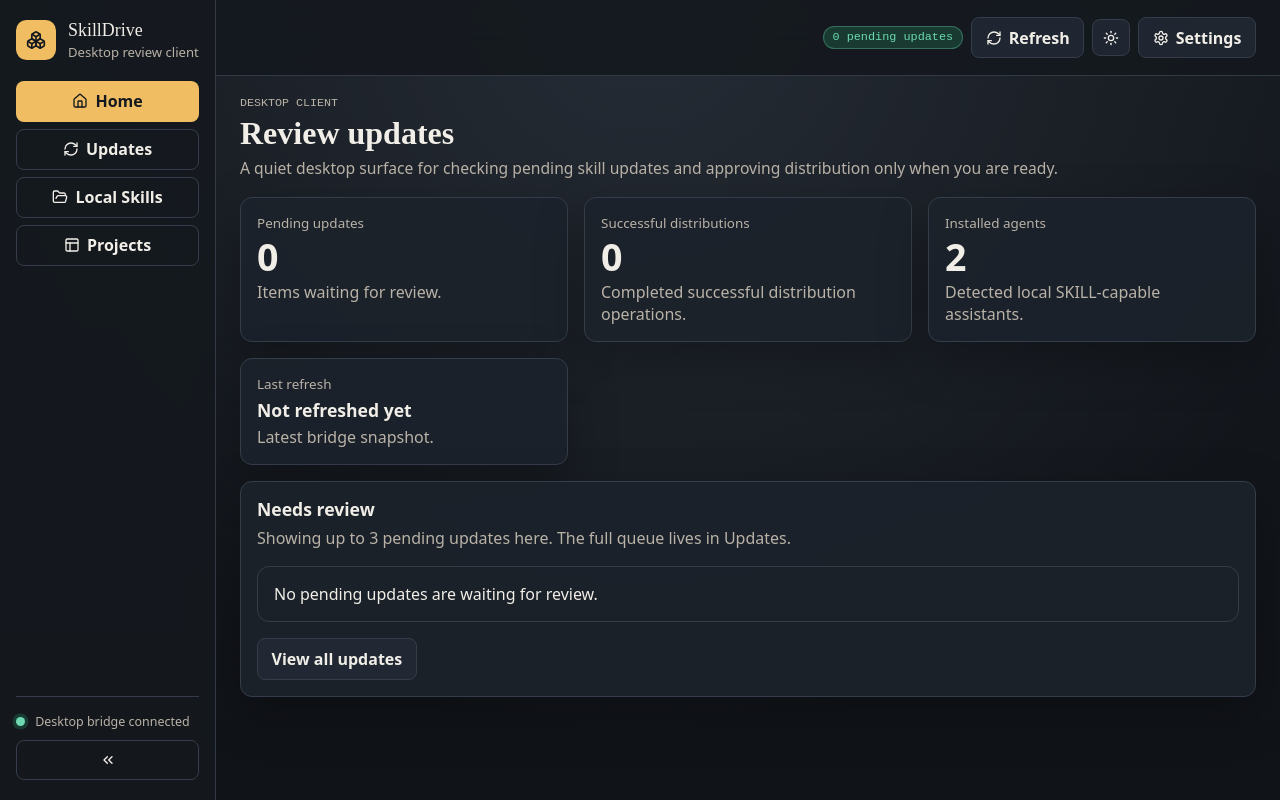
Test: App › persists a language switch through the locale bridge
The width and height of the screenshot is (1280, 800).
Click the button "Settings" at point(1197, 38), box [1138,17,1256,58]
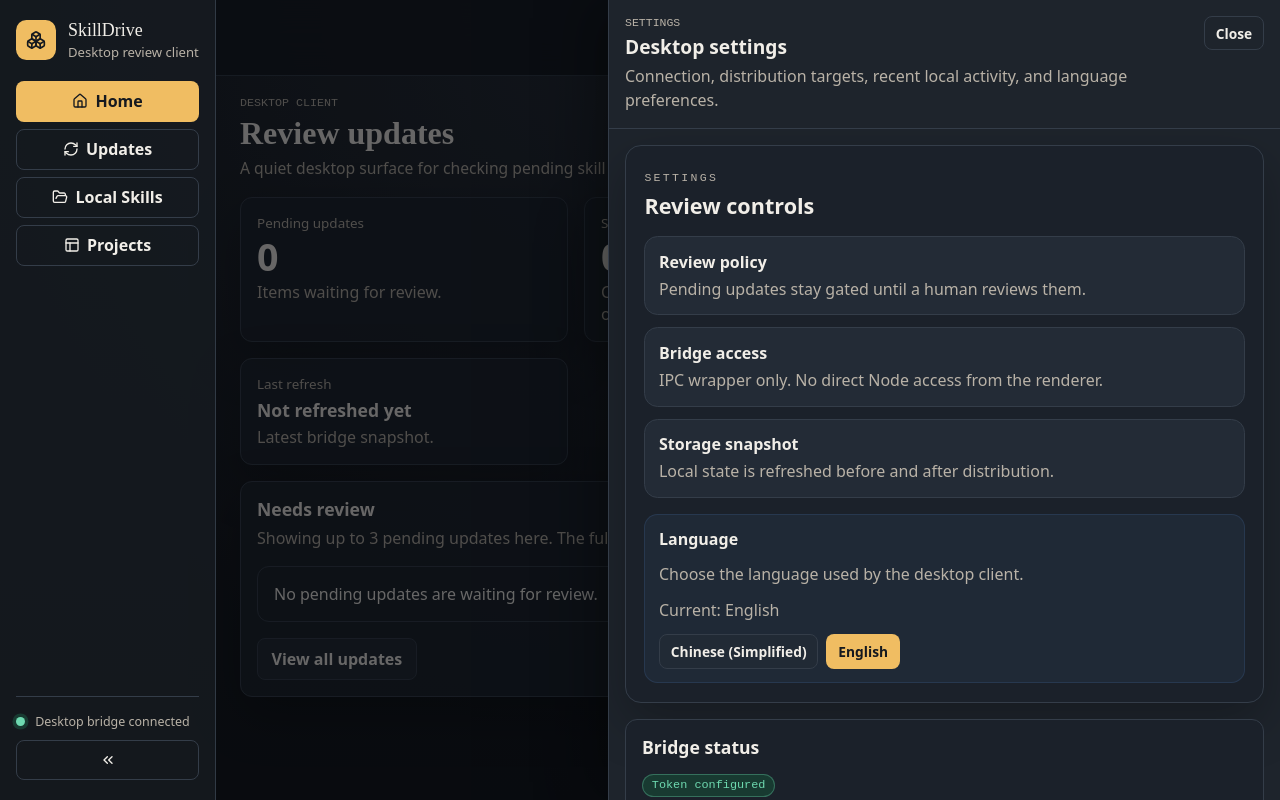
Check: the heading "Desktop settings" is shown, box [625,33,787,60]
Click the button with aria-label "Switch to Chinese" at point(739, 652), box [659,634,818,669]
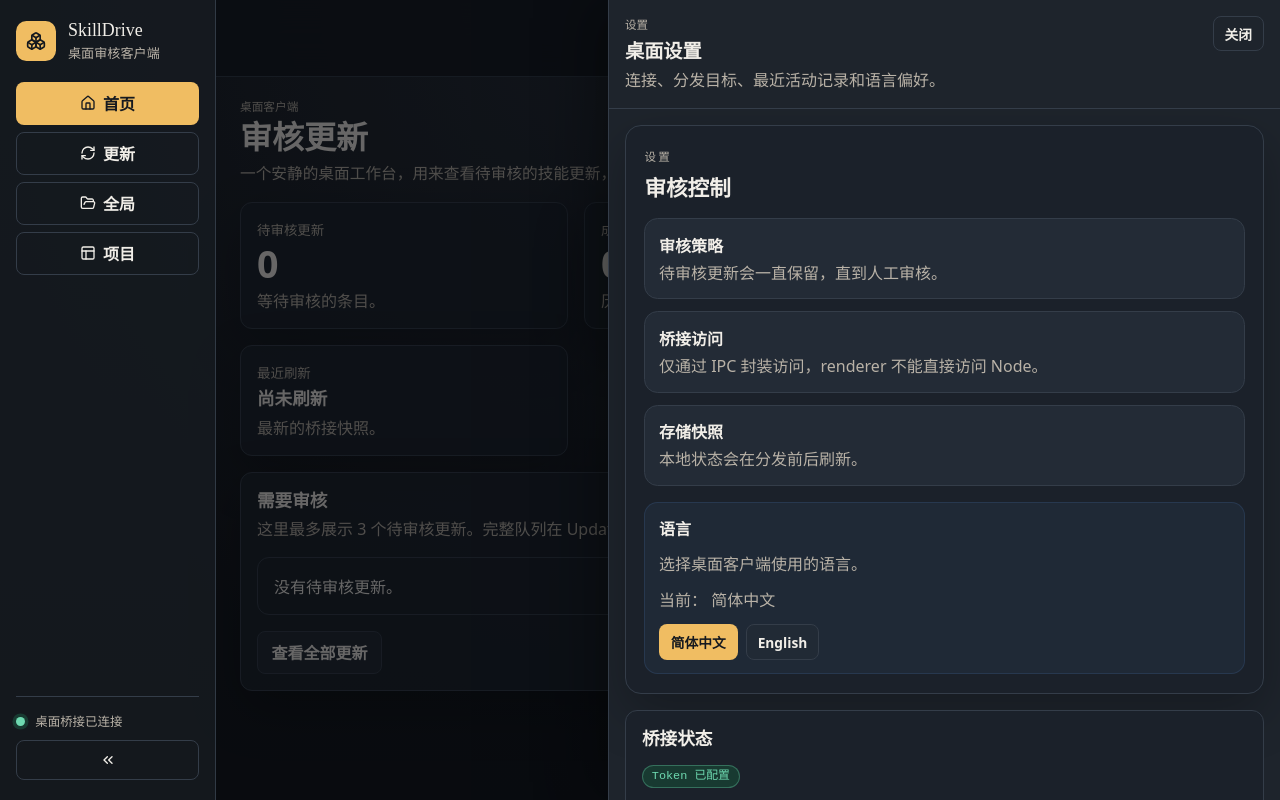
Check: the heading "审核更新" is shown, box [240,120,368,156]
Check: the button with aria-label "切换到中文" is shown, box [659,624,738,660]
